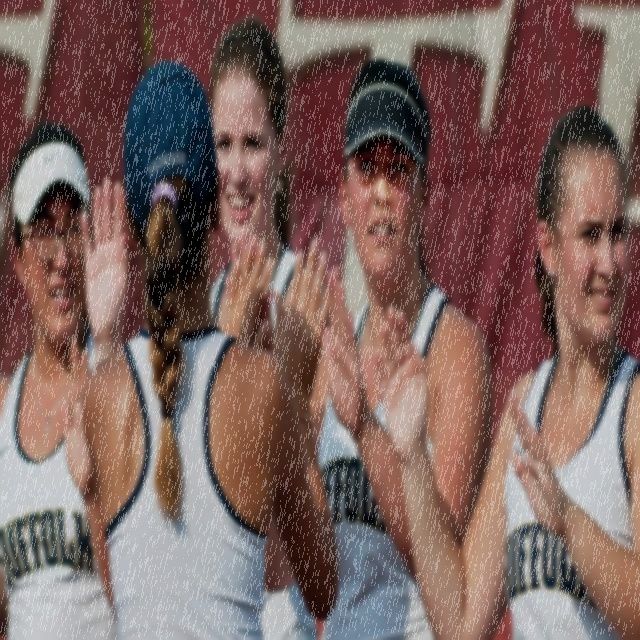pessoa: (220, 46, 498, 638), (80, 14, 332, 638), (78, 54, 338, 638), (370, 87, 639, 638), (0, 124, 120, 638)
